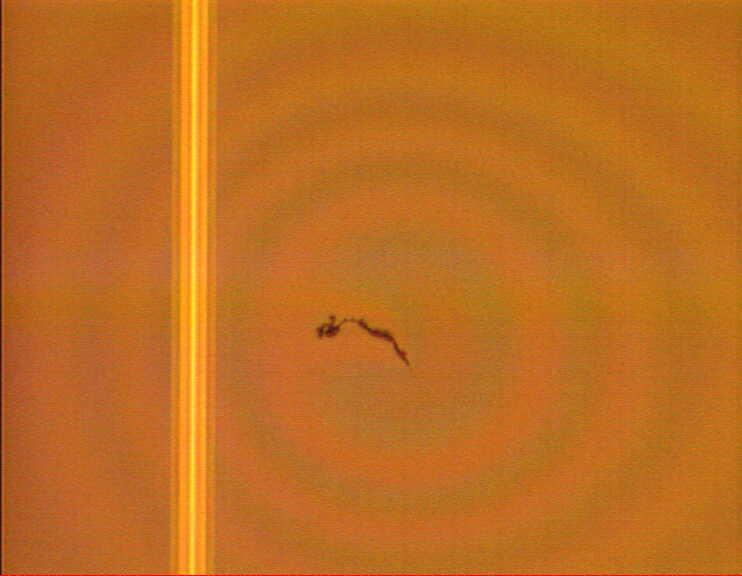PIQ PARTICLE: (307, 303, 420, 375)
